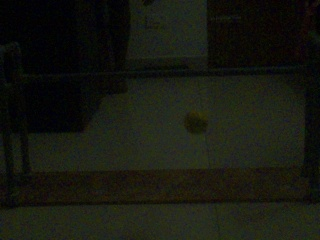ball: (183, 111, 208, 134)
